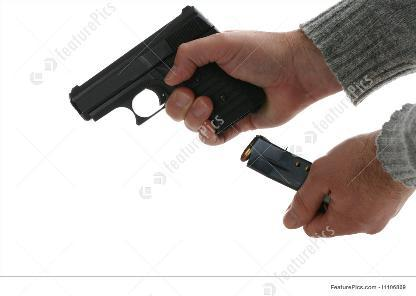pistol: (56, 4, 272, 133)
